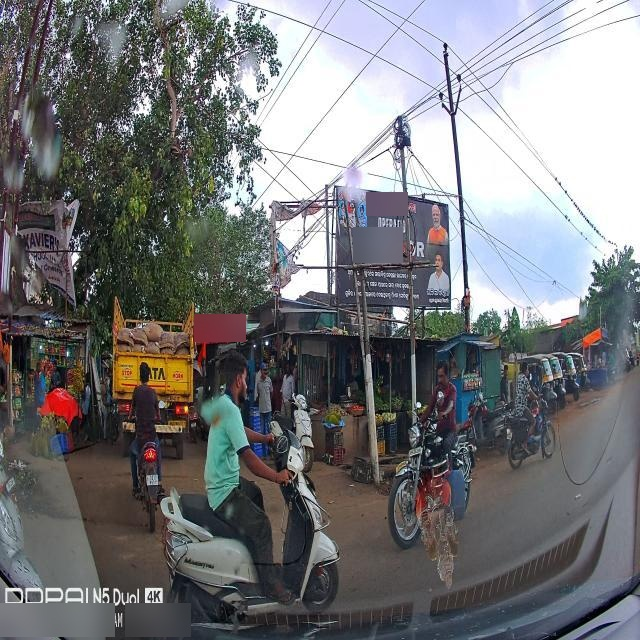pothole: (575, 393, 605, 409)
